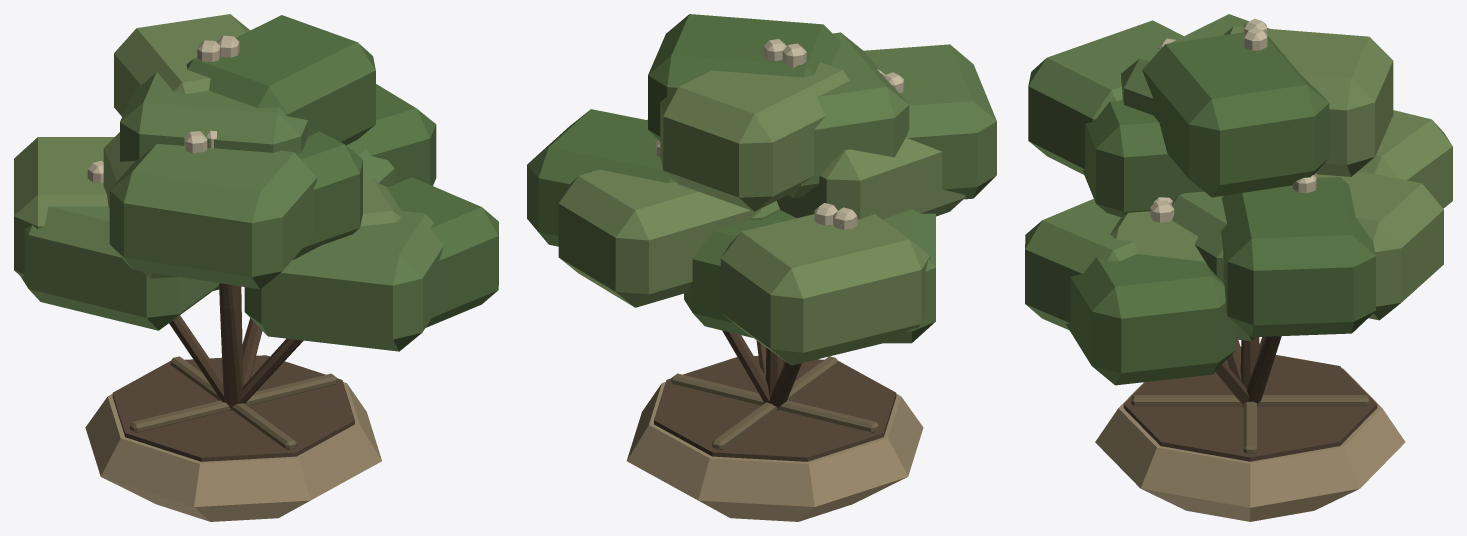
Rendered from blueberry_packed_spring.glb.
3 renders of one model, left to right at view 1: azimuth 30°, elevation 25°; view 2: azimuth 150°, elevation 25°; view 3: azimuth 270°, elevation 25°, orthographic.
Visible parts, largest first — view 1: blueberry_packed_spring; view 2: blueberry_packed_spring; view 3: blueberry_packed_spring.
Part boxes in pixels (<box>): blueberry_packed_spring: <box>14,14,498,521</box>; blueberry_packed_spring: <box>527,14,996,521</box>; blueberry_packed_spring: <box>1025,14,1452,521</box>.
Size of the model in its own units: 1.75 by 1.92 by 1.65.
